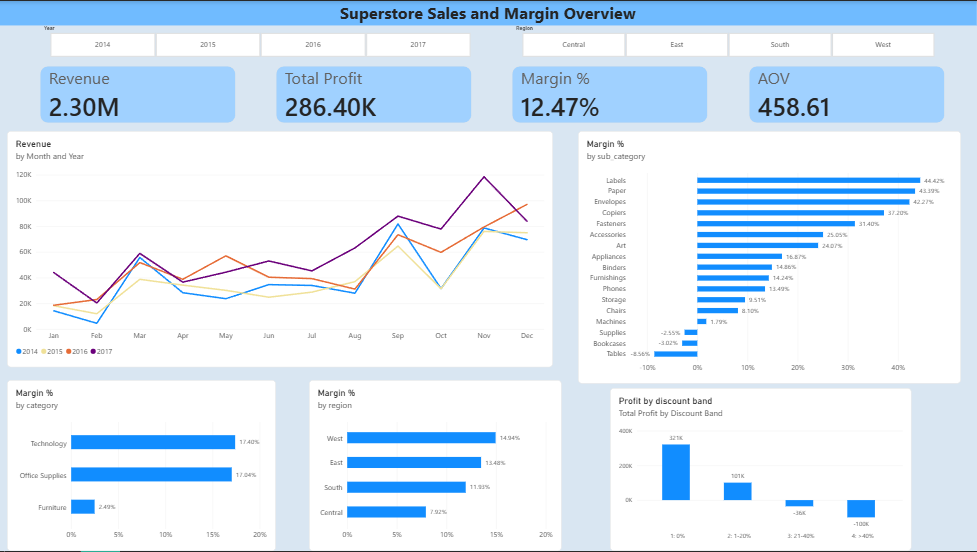

What the dashboard file says about the page in this screenshot:
{"tool":"powerbi","page":{"name":"Page 1","canvas":[1920,1080],"ordinal":0},"visuals":[{"type":"textbox","box":[0,0,1920,48],"z":0},{"type":"cardVisual","fields":{"Data":["orders.Revenue"]},"box":[80,128,384,112],"z":1000},{"type":"cardVisual","fields":{"Data":["orders.Total Profit"]},"box":[544,128,384,112],"z":2000},{"type":"cardVisual","fields":{"Data":["orders.AOV"]},"box":[1472,128,384,112],"z":3000},{"type":"cardVisual","fields":{"Data":["orders.Margin %"]},"box":[1008,128,384,112],"z":4000},{"type":"lineChart","fields":{"Category":["Calendar.Month"],"Series":["Calendar.Year"],"Y":["orders.Revenue"]},"box":[16,256,1072,464],"z":5000},{"type":"clusteredBarChart","fields":{"Category":["orders.sub_category"],"Y":["orders.Margin %"]},"box":[1136,256,752,496],"z":6000},{"type":"clusteredBarChart","fields":{"Category":["orders.category"],"Y":["orders.Margin %"]},"box":[16,744,528,336],"z":7000},{"type":"clusteredColumnChart","title":"Profit by discount band","fields":{"Category":["orders.Discount Band"],"Y":["orders.Total Profit"]},"box":[1200,760,592,320],"z":8000},{"type":"clusteredBarChart","fields":{"Category":["orders.region"],"Y":["orders.Margin %"]},"box":[608,744,496,336],"z":9000},{"type":"slicer","fields":{"Values":["Calendar.Year"]},"box":[80,48,864,64],"z":10000},{"type":"slicer","fields":{"Values":["orders.region"]},"box":[1008,48,848,64],"z":11000}]}

Visuals, with their boxes in screenshot pixels (x1, y1, x2, y2), scaled from the page's 1920x1080 canvas onto the 977x552 screenshot:
textbox: (0, 0, 976, 25)
cardVisual - orders.Revenue: (41, 65, 236, 123)
cardVisual - orders.Total Profit: (277, 65, 472, 123)
cardVisual - orders.AOV: (749, 65, 944, 123)
cardVisual - orders.Margin %: (513, 65, 708, 123)
lineChart - Calendar.Month x Calendar.Year: (8, 131, 554, 368)
clusteredBarChart - orders.sub_category x orders.Margin %: (578, 131, 961, 384)
clusteredBarChart - orders.category x orders.Margin %: (8, 380, 277, 551)
"Profit by discount band" clusteredColumnChart: (611, 388, 912, 551)
clusteredBarChart - orders.region x orders.Margin %: (309, 380, 562, 551)
slicer - Calendar.Year: (41, 25, 480, 57)
slicer - orders.region: (513, 25, 944, 57)
